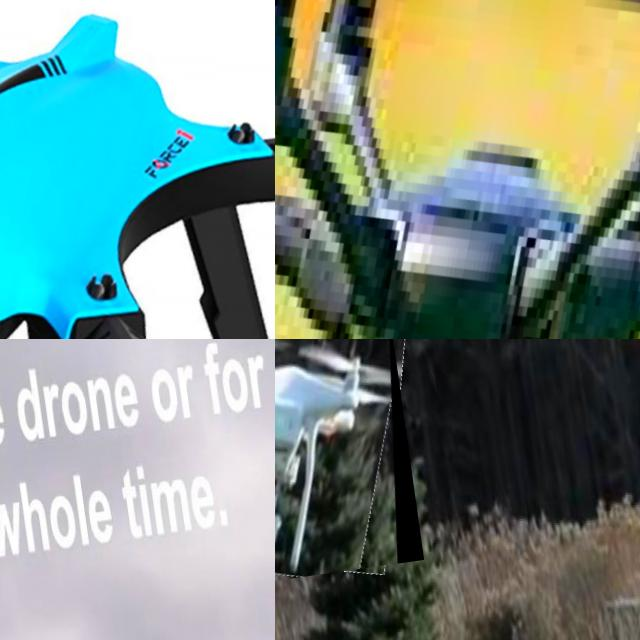0: (275, 339, 424, 586)
drone: (275, 0, 640, 339), (0, 0, 275, 339)
